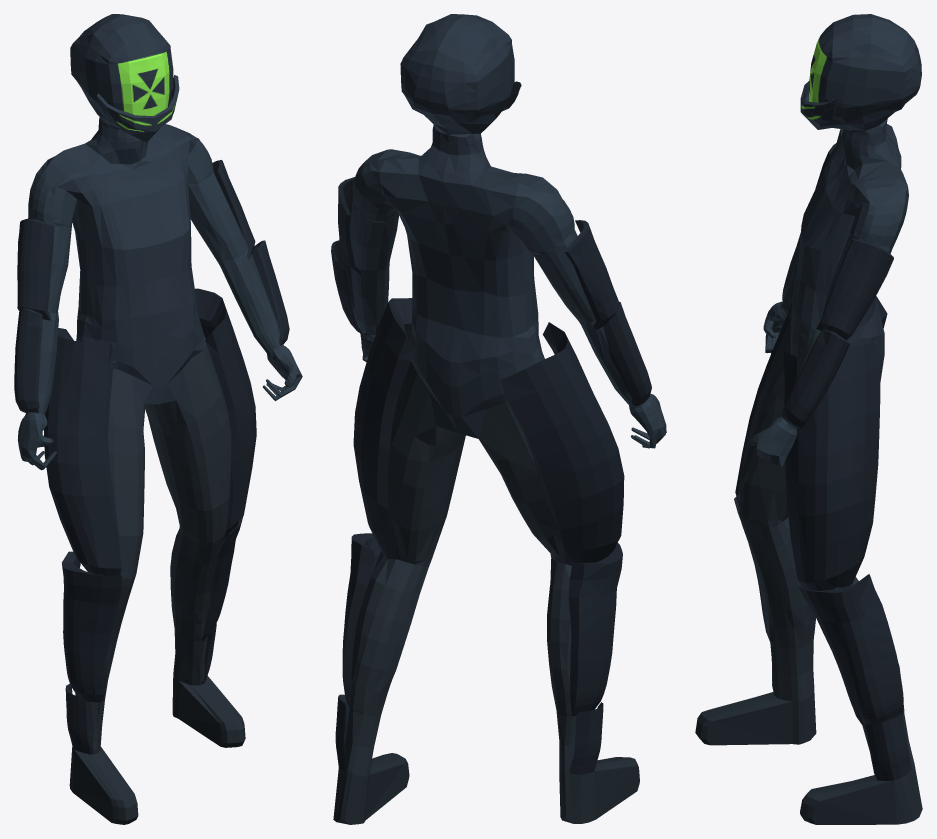
File: Bastion_Stun_Recover_000006.obj
3 renders of one model, left to right at view 1: azimuth 30°, elevation 25°; view 2: azimuth 150°, elevation 25°; view 3: azimuth 270°, elevation 25°, orthographic. The views are drawn at different scales.
Visible parts, largest first — view 1: Cube.002; view 2: Cube.002; view 3: Cube.002.
Part boxes in pixels (<box>): Cube.002: <box>14,14,302,824</box>; Cube.002: <box>331,14,666,824</box>; Cube.002: <box>695,14,922,824</box>.
Size of the model in its own units: 1.52 by 3.84 by 1.04.
